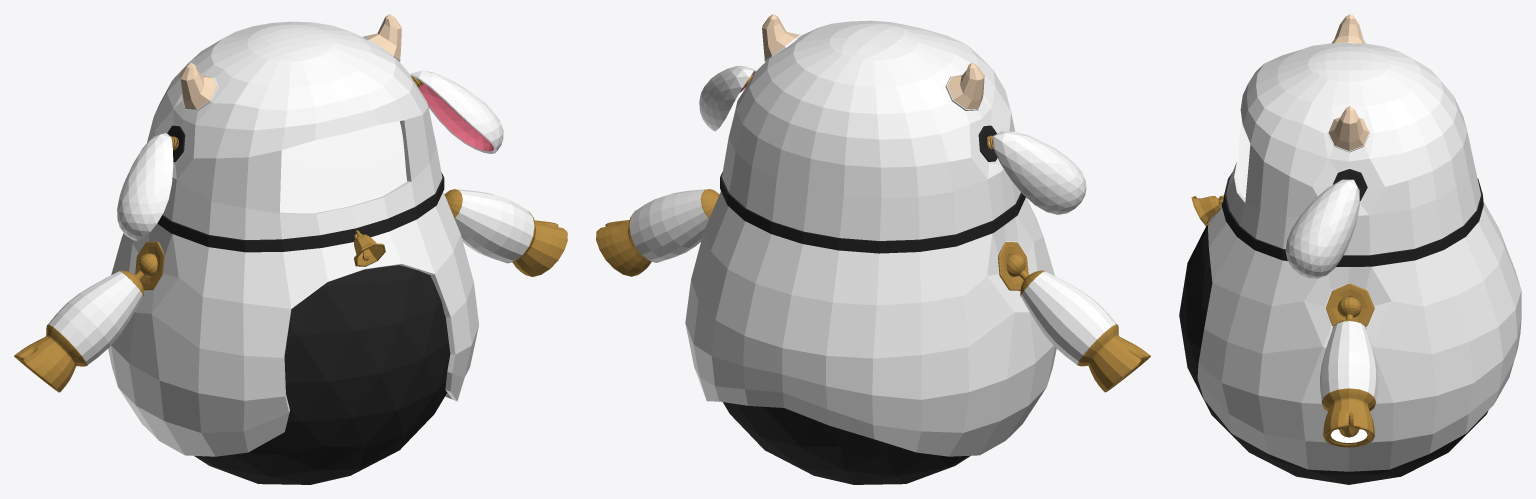
File: moobi.glb
The picture shows the model from 3 angles, left to right: view 1: azimuth 30°, elevation 25°; view 2: azimuth 150°, elevation 25°; view 3: azimuth 270°, elevation 25°; orthographic projection. The views are drawn at different scales.
Parts seen in each view (by area): view 1: Sphere.001, Wheel, Screen, ArmL, ArmR, EarL, EarR, Sphere.006, HoofL, HoofR, Cylinder.001, SocketBaseL (+1 smaller); view 2: Sphere.001, Wheel, EarL, ArmL, ArmR, Sphere.006, HoofL, EarR, HoofR, SocketBaseL, Sphere.012; view 3: Sphere.001, Wheel, EarR, ArmR, Sphere.006, HoofR, SocketBaseR, Screen, Cylinder.001, Sphere.008, Sphere.003.
Part boxes in pixels (<box>): Sphere.001: <box>108,14,478,456</box>; Wheel: <box>194,265,450,484</box>; Screen: <box>280,121,406,213</box>; ArmL: <box>48,271,143,364</box>; ArmR: <box>454,189,534,262</box>; EarL: <box>117,133,173,240</box>; EarR: <box>410,70,503,153</box>; Sphere.006: <box>157,172,444,252</box>; HoofL: <box>14,324,87,392</box>; HoofR: <box>504,211,567,276</box>; Cylinder.001: <box>354,233,385,266</box>; SocketBaseL: <box>135,241,164,290</box>; Sphere.001: <box>685,14,1056,456</box>; Wheel: <box>723,402,970,484</box>; EarL: <box>992,131,1086,214</box>; ArmL: <box>1021,271,1116,365</box>; ArmR: <box>629,189,708,262</box>; Sphere.006: <box>720,172,1025,253</box>; HoofL: <box>1077,324,1150,392</box>; EarR: <box>699,66,755,131</box>; HoofR: <box>596,210,658,276</box>; SocketBaseL: <box>998,242,1028,290</box>; Sphere.012: <box>1006,253,1045,296</box>; Sphere.001: <box>1197,14,1521,471</box>; Wheel: <box>1179,225,1488,484</box>; EarR: <box>1285,179,1359,278</box>; ArmR: <box>1320,321,1378,401</box>; Sphere.006: <box>1221,172,1483,266</box>; HoofR: <box>1321,388,1376,447</box>; SocketBaseR: <box>1326,283,1374,326</box>; Screen: <box>1238,119,1250,198</box>; Cylinder.001: <box>1191,196,1223,225</box>; Sphere.008: <box>1332,296,1365,329</box>; Sphere.003: <box>1333,169,1367,200</box>.
Size of the model in its own units: 2.85 by 2.17 by 1.65.
